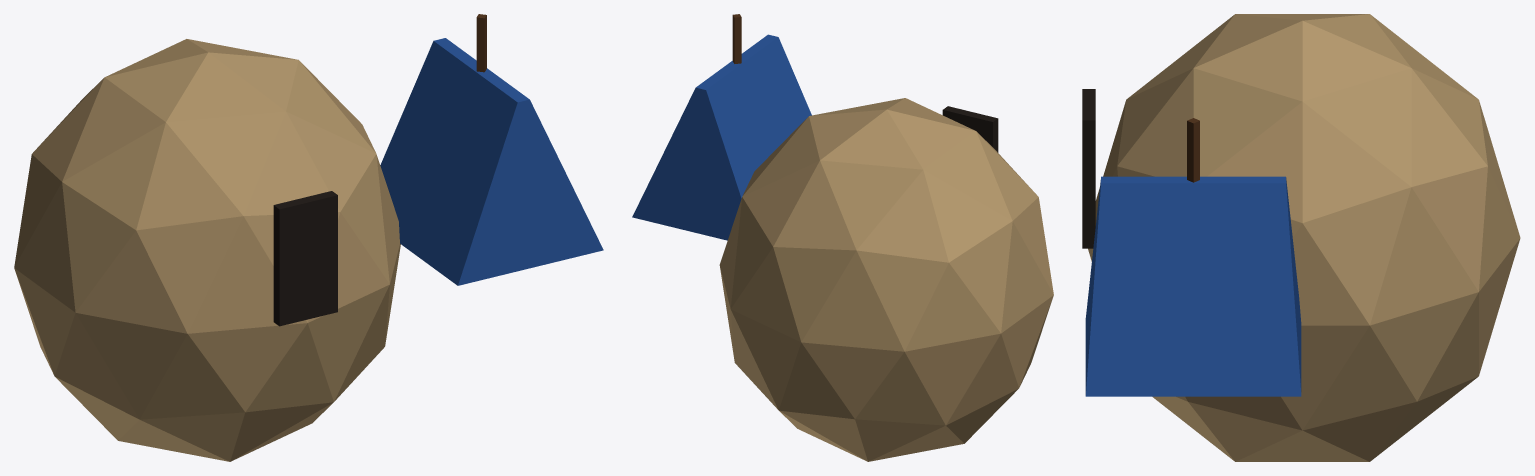
File: minotaur_house_b_broken.glb
The picture shows the model from 3 angles, left to right: view 1: azimuth 30°, elevation 25°; view 2: azimuth 150°, elevation 25°; view 3: azimuth 270°, elevation 25°; orthographic projection. The views are drawn at different scales.
Parts seen in each view (by area): view 1: minotaur_house_b_piece11, minotaur_house_b_piece3, minotaur_house_b_piece2, minotaur_house_b_piece4, minotaur_house_b_piece9, minotaur_house_b_piece7, minotaur_house_b_piece8, minotaur_house_b_piece6; view 2: minotaur_house_b_piece3, minotaur_house_b_piece6, minotaur_house_b_piece2, minotaur_house_b_piece5, minotaur_house_b_piece10, minotaur_house_b_piece1, minotaur_house_b_piece7, minotaur_house_b_piece11, minotaur_house_b_piece8, minotaur_house_b_piece9; view 3: minotaur_house_b_piece2, minotaur_house_b_piece6, minotaur_house_b_piece5, minotaur_house_b_piece4, minotaur_house_b_piece9, minotaur_house_b_piece3, minotaur_house_b_piece8, minotaur_house_b_piece0, minotaur_house_b_piece11.
Part boxes in pixels (x1,y1,x2,y2): minotaur_house_b_piece11: [92, 201, 347, 461]; minotaur_house_b_piece3: [14, 43, 240, 321]; minotaur_house_b_piece2: [310, 14, 603, 265]; minotaur_house_b_piece4: [304, 105, 539, 382]; minotaur_house_b_piece9: [143, 74, 313, 276]; minotaur_house_b_piece7: [51, 253, 144, 444]; minotaur_house_b_piece8: [228, 49, 308, 78]; minotaur_house_b_piece6: [80, 39, 318, 101]; minotaur_house_b_piece3: [834, 104, 1053, 378]; minotaur_house_b_piece6: [719, 113, 888, 385]; minotaur_house_b_piece2: [632, 14, 811, 240]; minotaur_house_b_piece5: [723, 287, 891, 461]; minotaur_house_b_piece10: [889, 345, 1021, 439]; minotaur_house_b_piece1: [887, 333, 1029, 458]; minotaur_house_b_piece7: [929, 299, 1052, 450]; minotaur_house_b_piece11: [974, 113, 1044, 375]; minotaur_house_b_piece8: [822, 105, 898, 386]; minotaur_house_b_piece9: [838, 98, 1024, 181]; minotaur_house_b_piece2: [1085, 105, 1352, 396]; minotaur_house_b_piece6: [1271, 54, 1520, 347]; minotaur_house_b_piece5: [1198, 313, 1497, 461]; minotaur_house_b_piece4: [1082, 96, 1310, 422]; minotaur_house_b_piece9: [1119, 40, 1276, 147]; minotaur_house_b_piece3: [1183, 14, 1462, 86]; minotaur_house_b_piece8: [1258, 41, 1348, 110]; minotaur_house_b_piece0: [1083, 97, 1229, 457]; minotaur_house_b_piece11: [1082, 89, 1165, 407].
Size of the model in its own units: 2.68 by 2.3 by 2.01.
